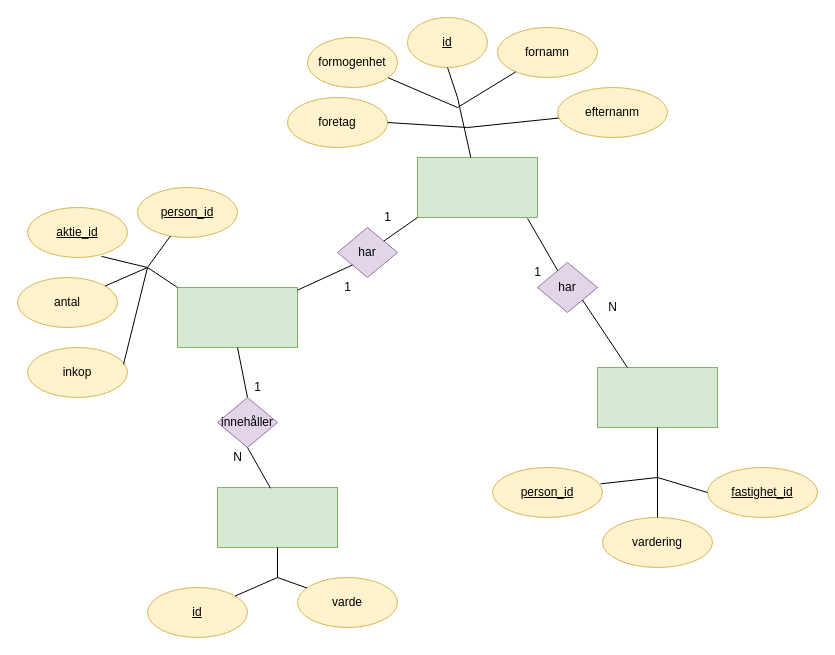
This 835x655 diagram has some shape labels left out. The centre of each missing label's shape, as x and y in pixels:
aktier: (277,517)
fastighet: (657,397)
person: (477,187)
portfölj: (237,317)
